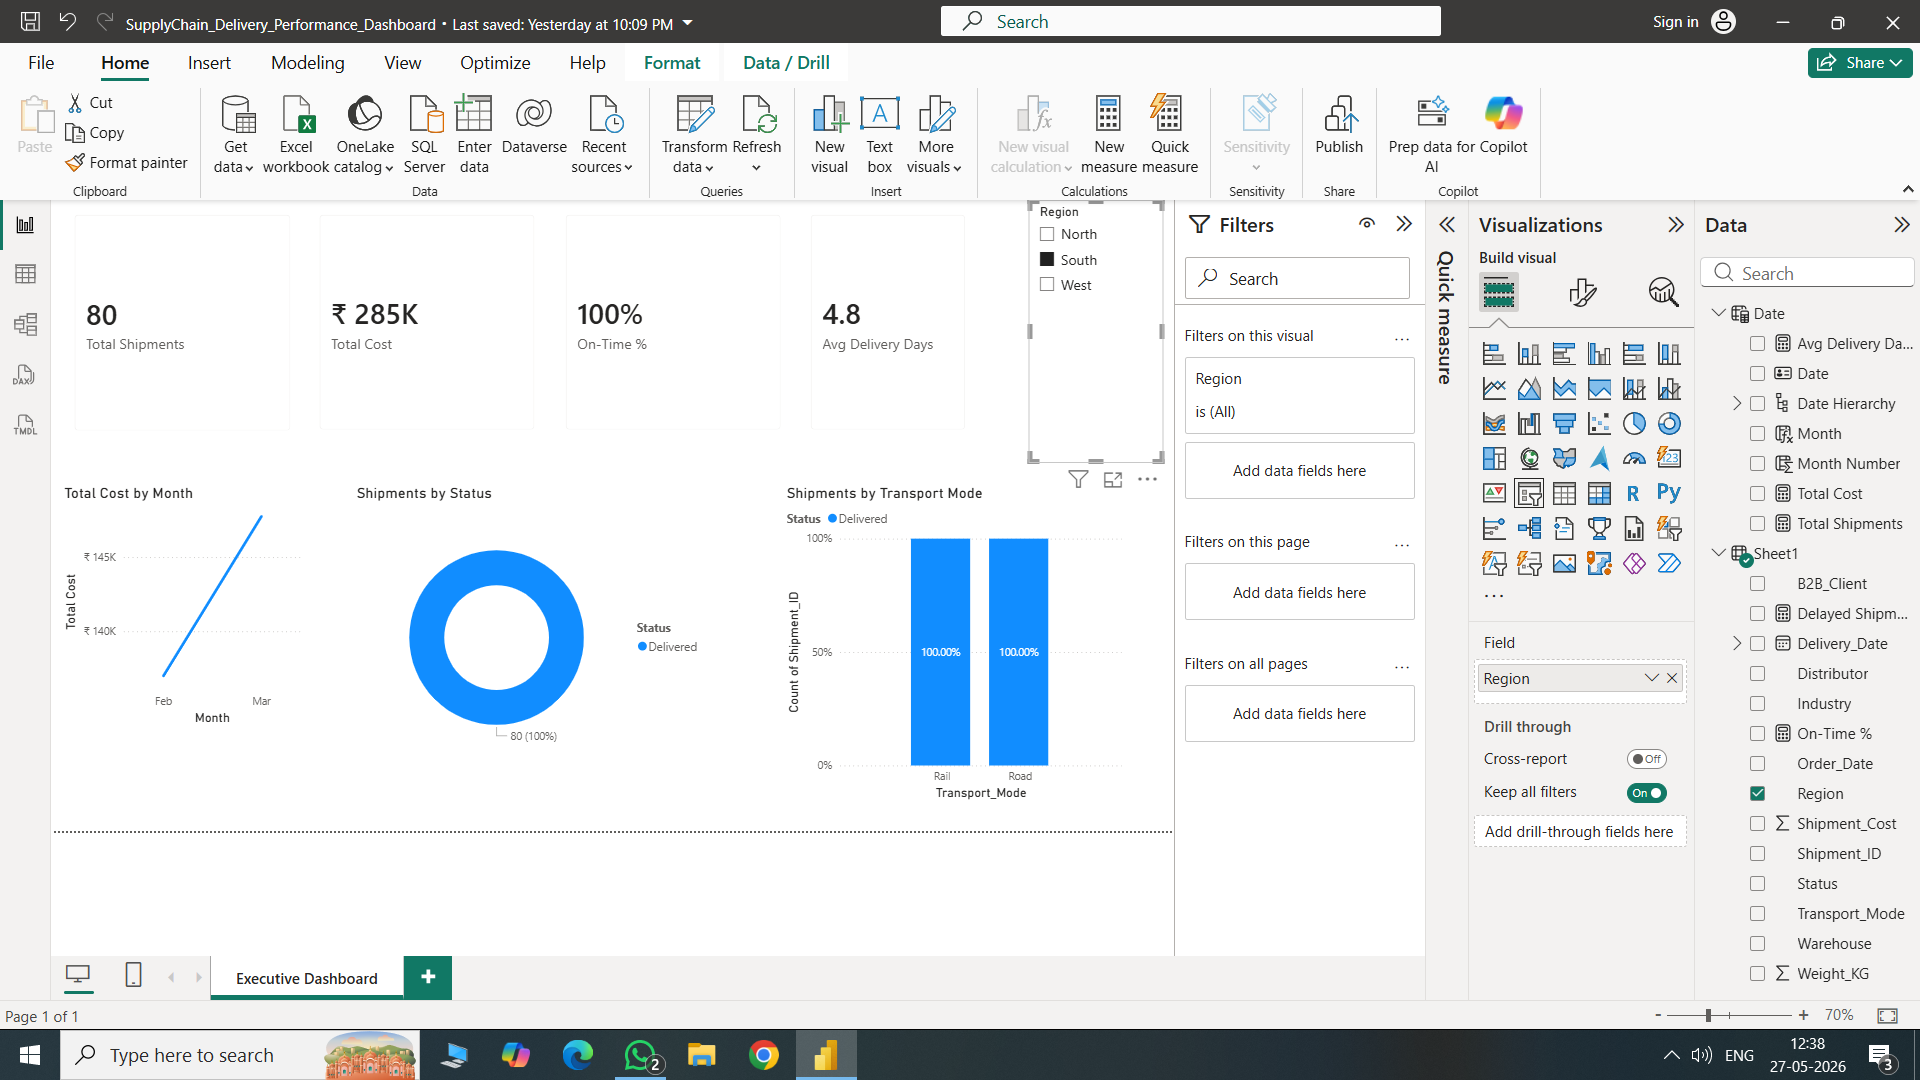

What the dashboard file says about the page in this screenshot:
{"tool":"powerbi","page":{"name":"Executive Dashboard","canvas":[1280,720],"ordinal":0},"visuals":[{"type":"cardVisual","fields":{"Data":["Date.Total Shipments"]},"box":[10,0,280,280],"z":0},{"type":"cardVisual","fields":{"Data":["Date.Total Cost"]},"box":[289.5,0,279.9,279.9],"z":1000},{"type":"cardVisual","fields":{"Data":["Sheet1.On-Time %"]},"box":[569.5,0,279.9,279.9],"z":2000},{"type":"lineChart","fields":{"Y":["Date.Total Cost"],"Category":["Date.Month"]},"box":[9.6,323.8,279.9,279.9],"z":4000},{"type":"donutChart","title":"Shipments by Status","fields":{"Category":["Sheet1.Status"],"Y":["CountNonNull(Sheet1.Shipment_ID)"]},"box":[343.1,323.8,407.5,332.1],"z":5000},{"type":"hundredPercentStackedColumnChart","title":"Shipments by Transport Mode","fields":{"Category":["Sheet1.Transport_Mode"],"Y":["CountNonNull(Sheet1.Shipment_ID)"],"Series":["Sheet1.Status"]},"box":[834.3,323.8,392.5,365],"z":6000},{"type":"slicer","fields":{"Values":["Sheet1.Region"]},"box":[1114.7,0,153.9,299.3],"z":7000},{"type":"cardVisual","fields":{"Data":["Date.Avg Delivery Days"]},"box":[849.5,0,211,279.4],"z":7001}]}

Visuals, with their boxes on the page's 1280x720 design canvas (x1, y1, x2, y2). These are canvas units, not pixel positions in the 1920x1080 screenshot, which may show the page scaled, cropped or inside an application window:
cardVisual - Date.Total Shipments: bbox(10, 0, 290, 280)
cardVisual - Date.Total Cost: bbox(290, 0, 569, 280)
cardVisual - Sheet1.On-Time %: bbox(570, 0, 849, 280)
lineChart - Date.Total Cost x Date.Month: bbox(10, 324, 290, 604)
"Shipments by Status" donutChart: bbox(343, 324, 751, 656)
"Shipments by Transport Mode" hundredPercentStackedColumnChart: bbox(834, 324, 1227, 689)
slicer - Sheet1.Region: bbox(1115, 0, 1269, 299)
cardVisual - Date.Avg Delivery Days: bbox(850, 0, 1060, 279)
